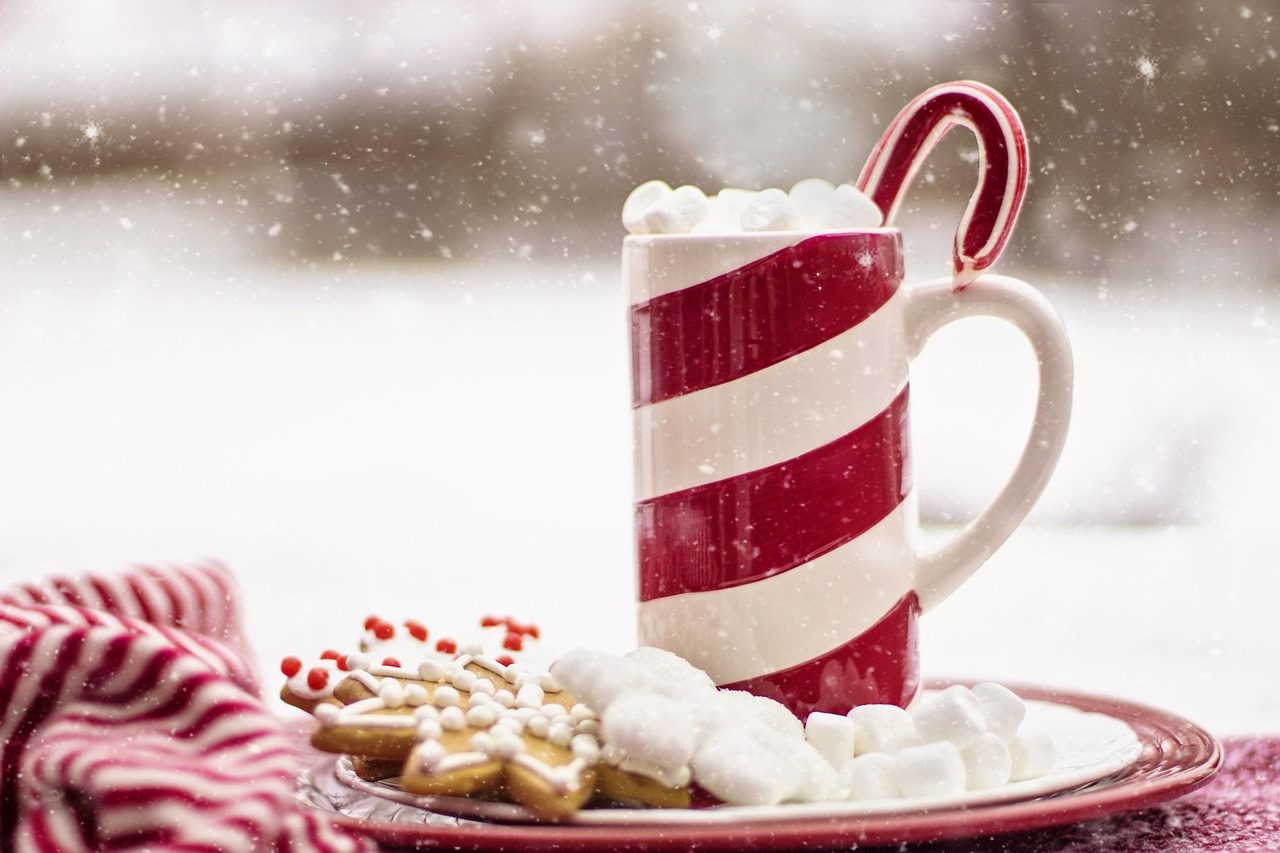mug: (591, 177, 1093, 722)
